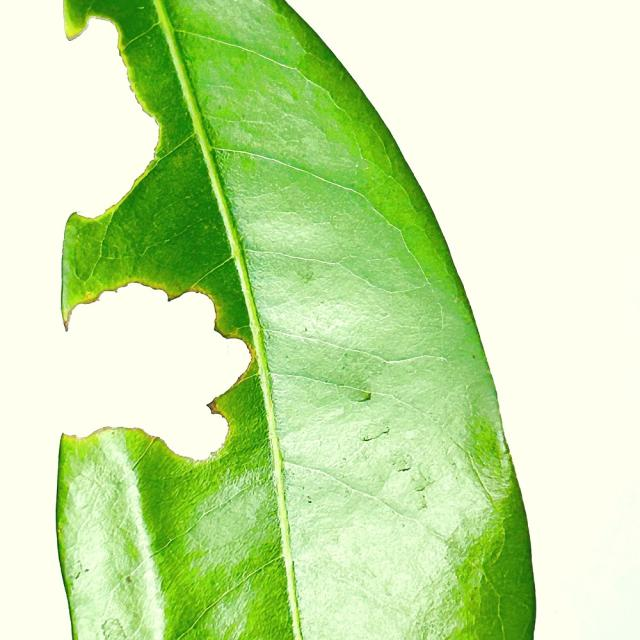Deficiency Leaf: (53, 284, 250, 460), (70, 56, 158, 244), (84, 14, 120, 55)
Lychee: (56, 0, 535, 639)
